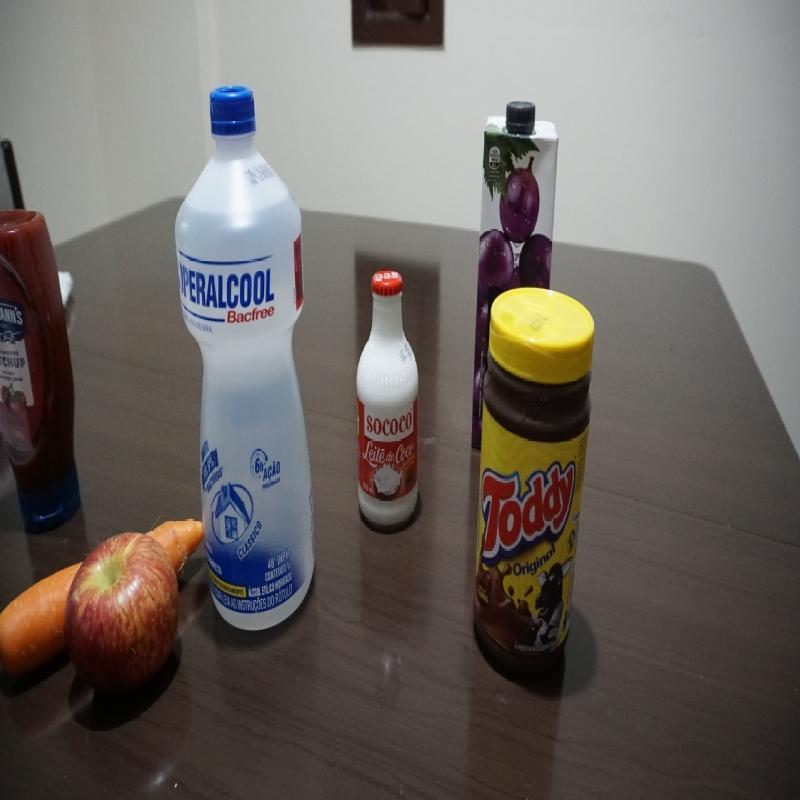Carrot: (2, 551, 69, 698)
Chocolate Powder: (468, 287, 598, 682)
Coconut Milk: (351, 270, 422, 536)
Ketchup: (1, 197, 87, 530)
Toothpaste: (173, 82, 316, 636)
